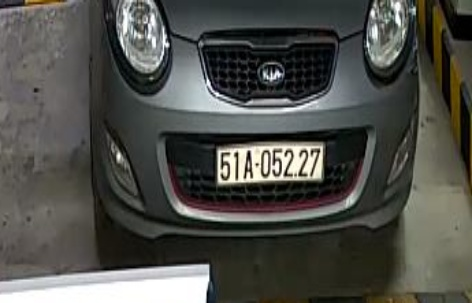plate: (211, 141, 326, 187)
